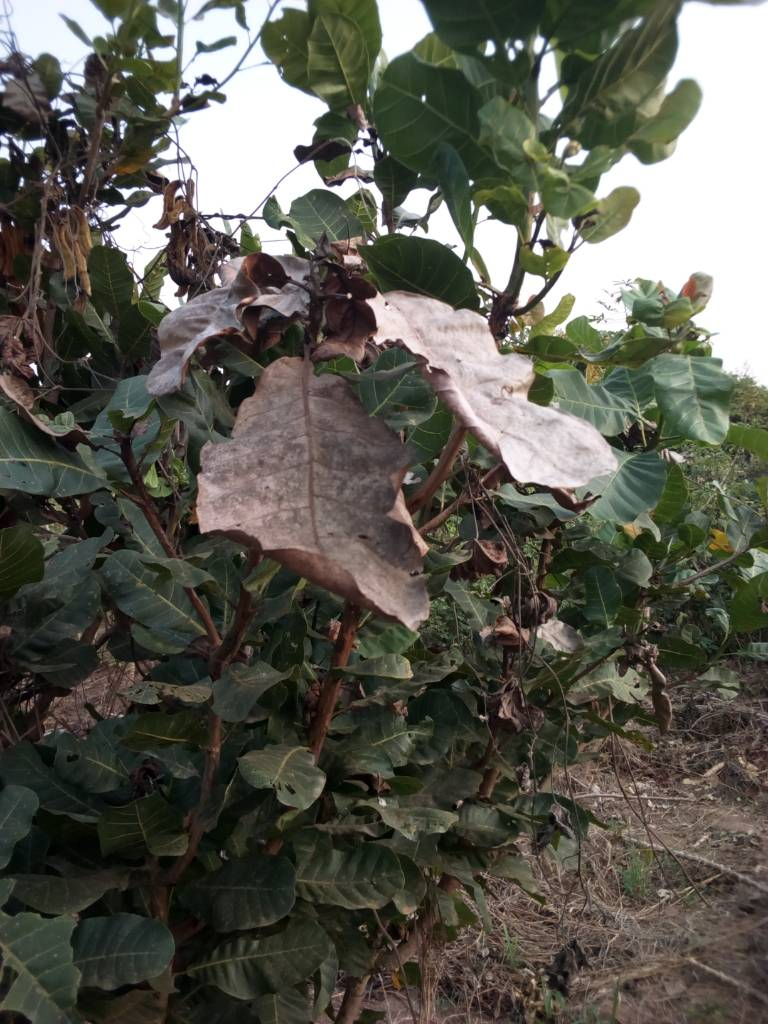Dessèchement des bourgeons: (284, 225, 362, 317)
